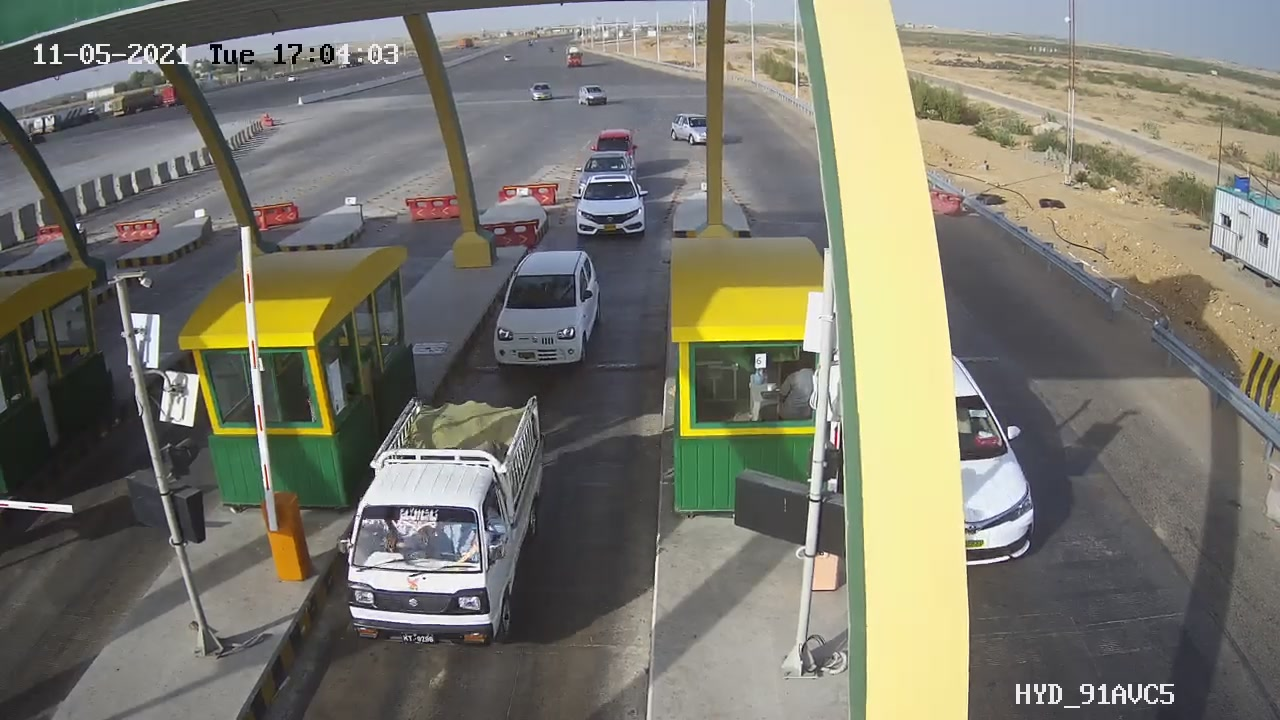F1: (325, 386, 557, 665), (481, 238, 614, 383), (560, 165, 664, 253)
